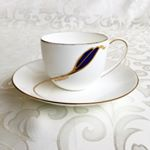cups: (37, 30, 131, 92)
